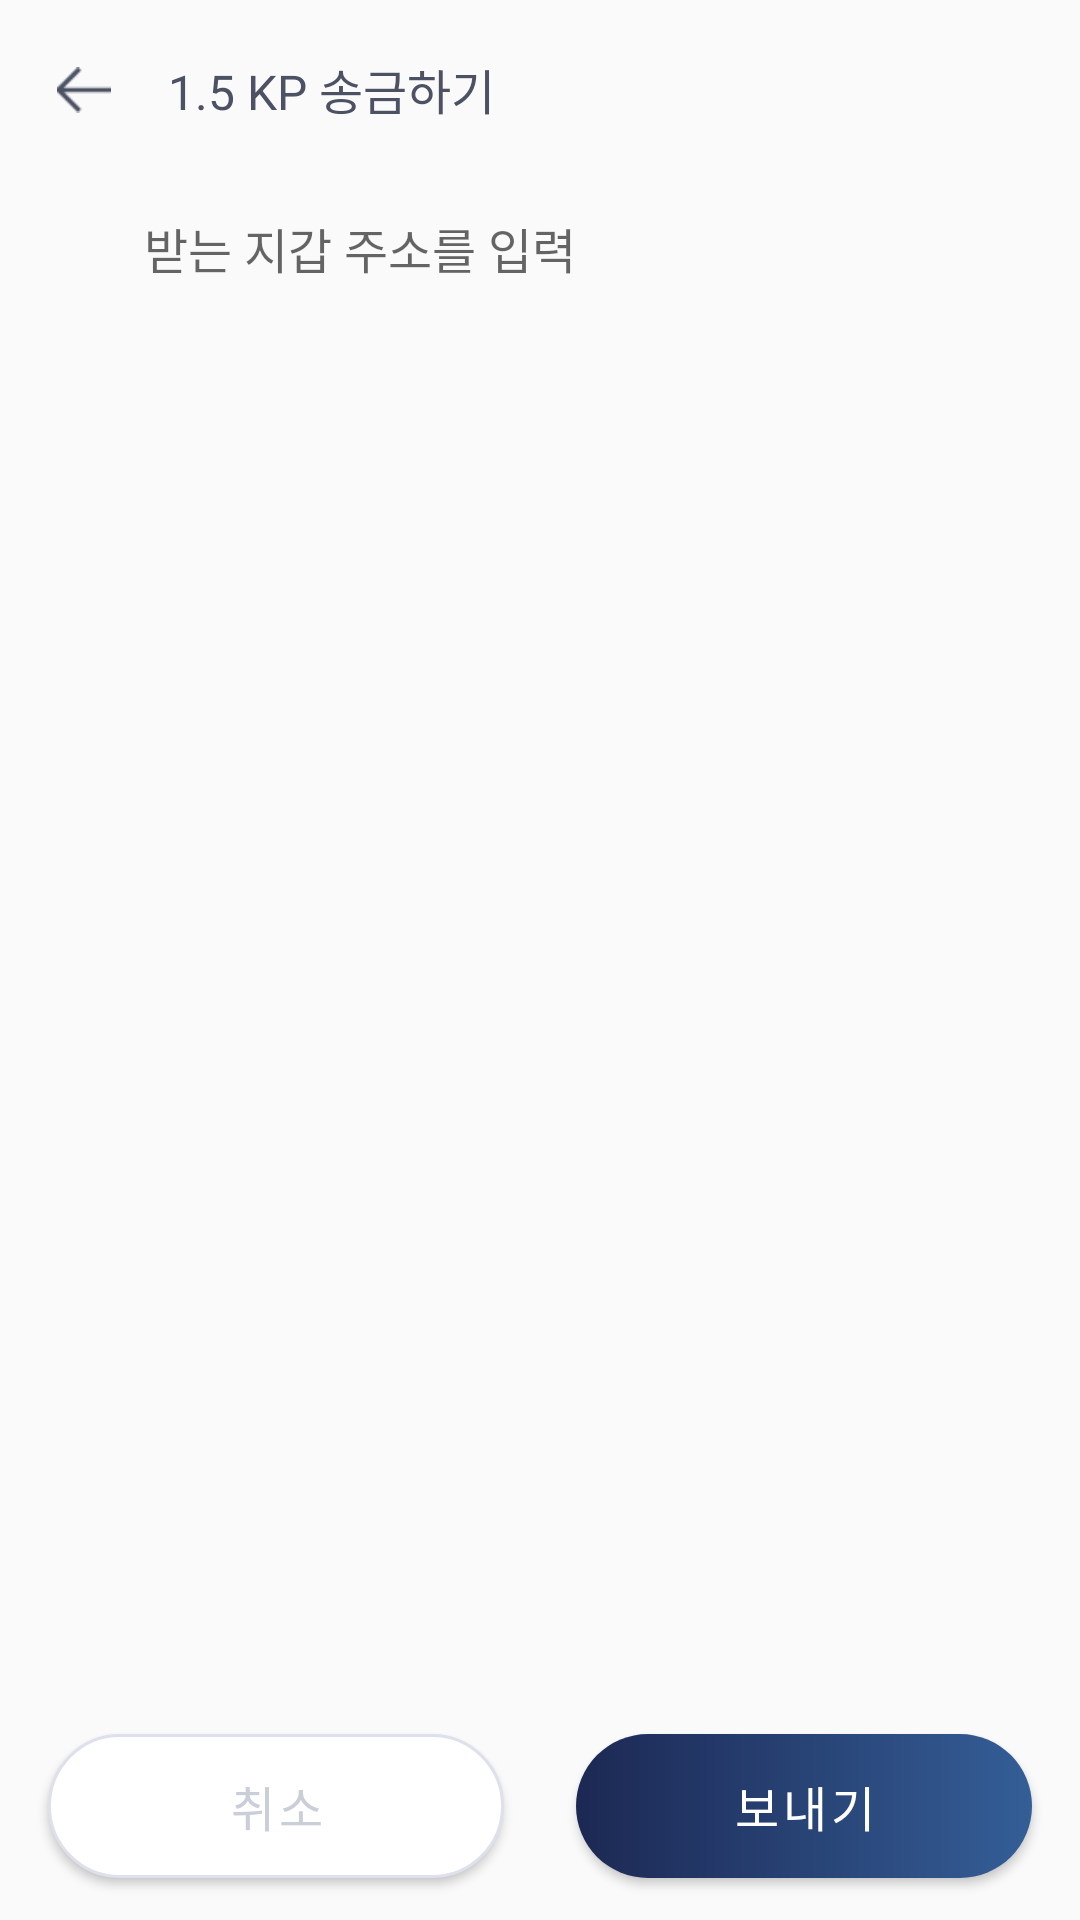

Named icons in this screenshot (1080 x 1920) and their centers, (x=x, y=y):
vao keyboard back: (x=84, y=90)
